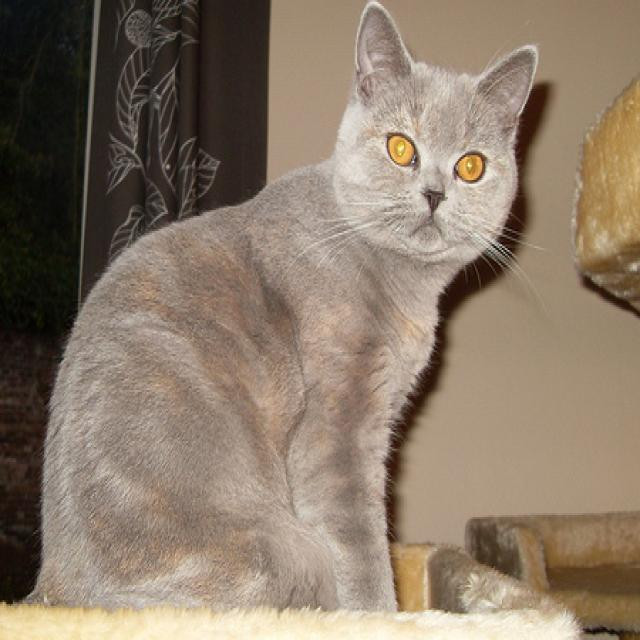British Shorthair: (35, 0, 543, 613)
